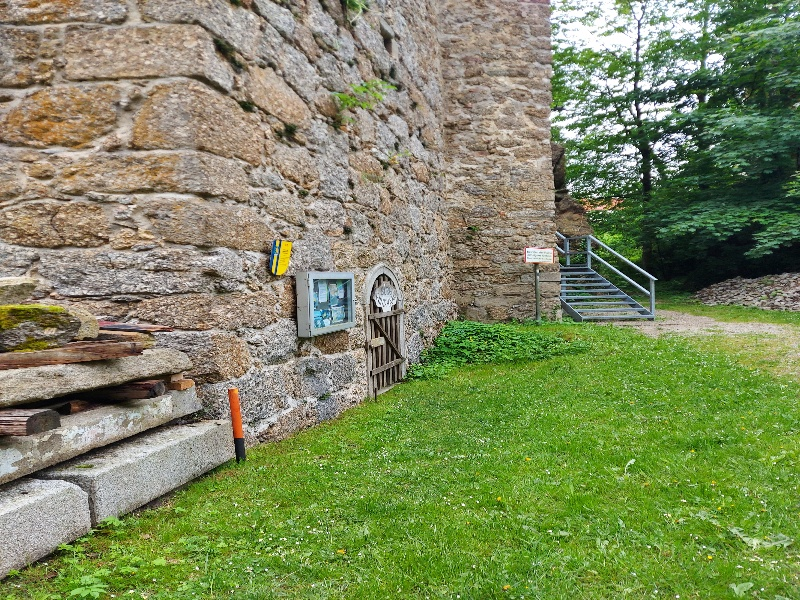dungeon: (356, 251, 420, 397)
